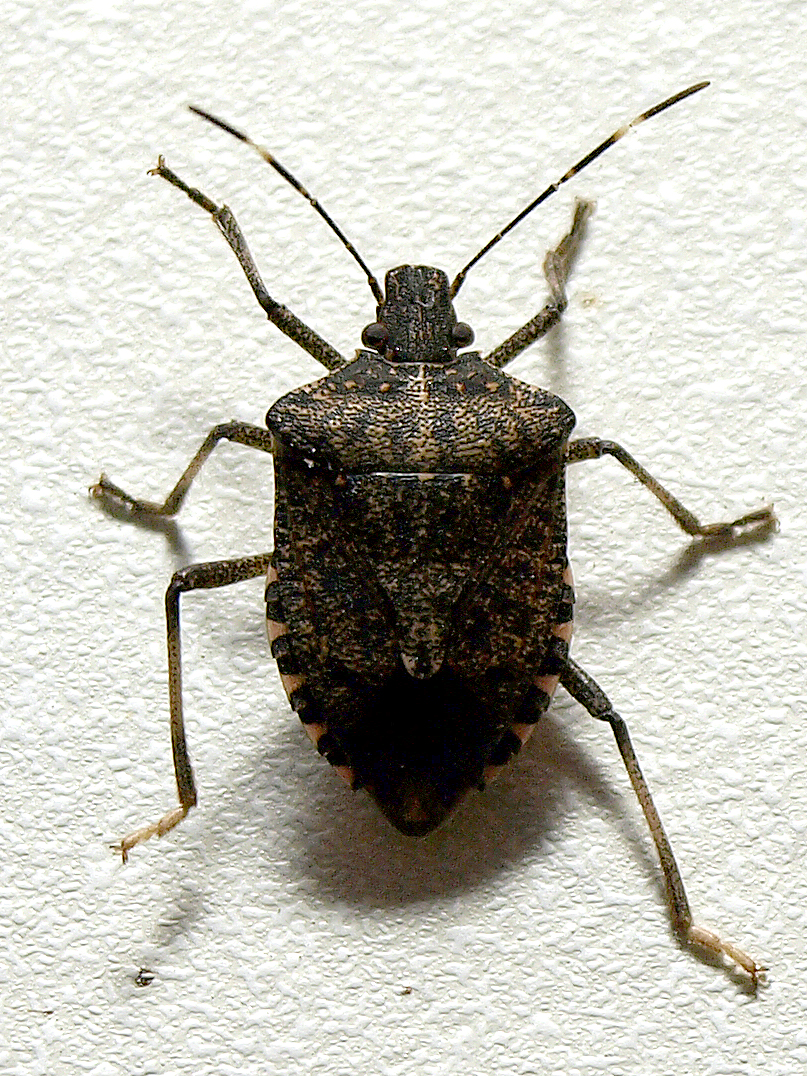Brown Marmorated Stink Bug: (79, 67, 792, 1008)
